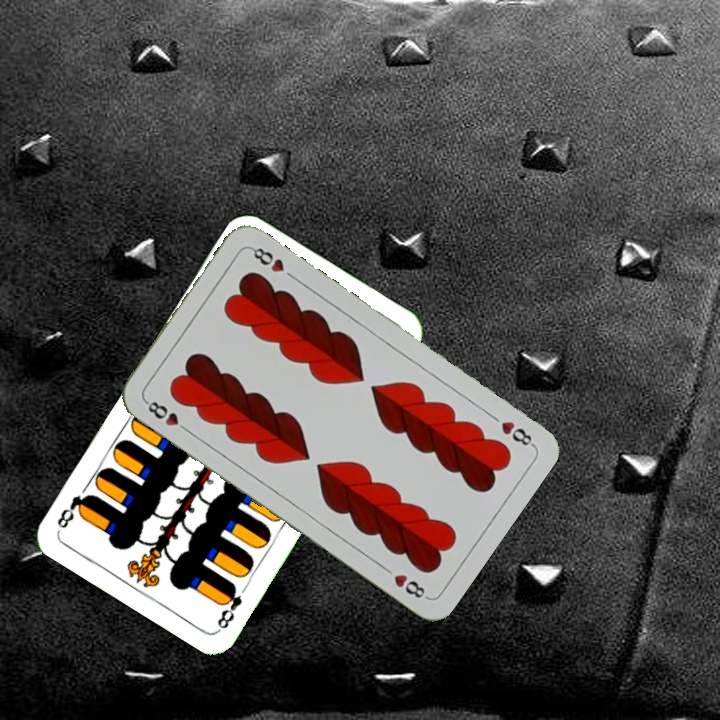E8: (213, 579, 245, 633)
H8: (485, 409, 537, 449), (141, 396, 192, 436)
